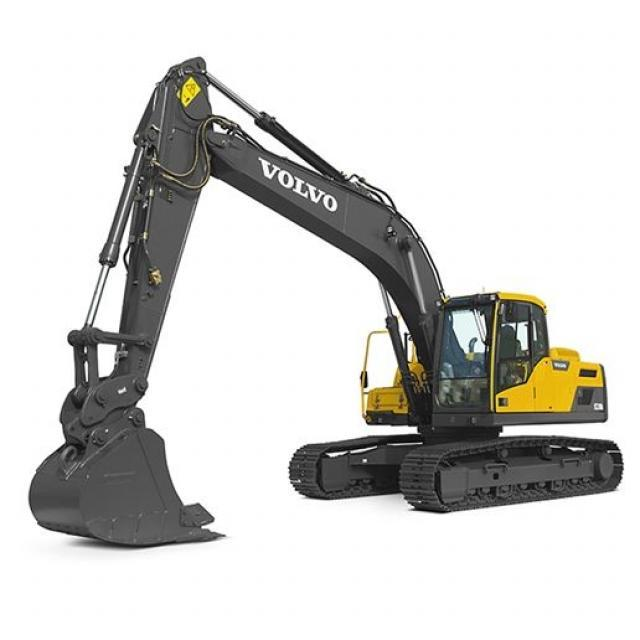C_E: (23, 52, 622, 548)
